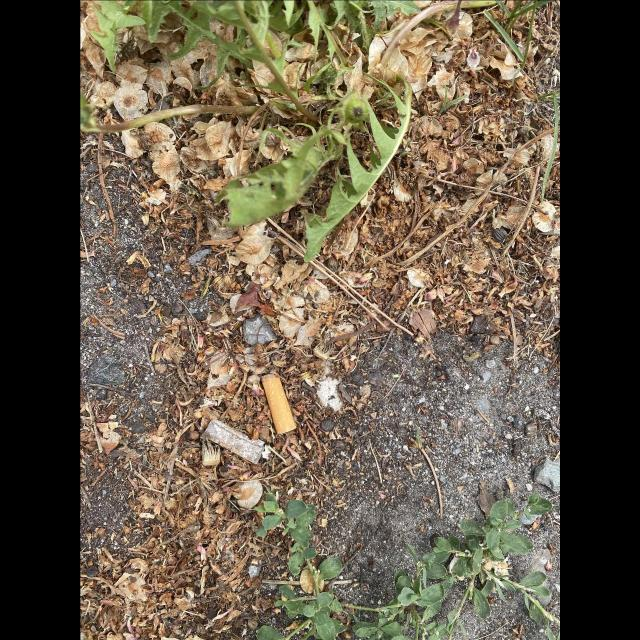cigarette: (260, 372, 296, 434)
